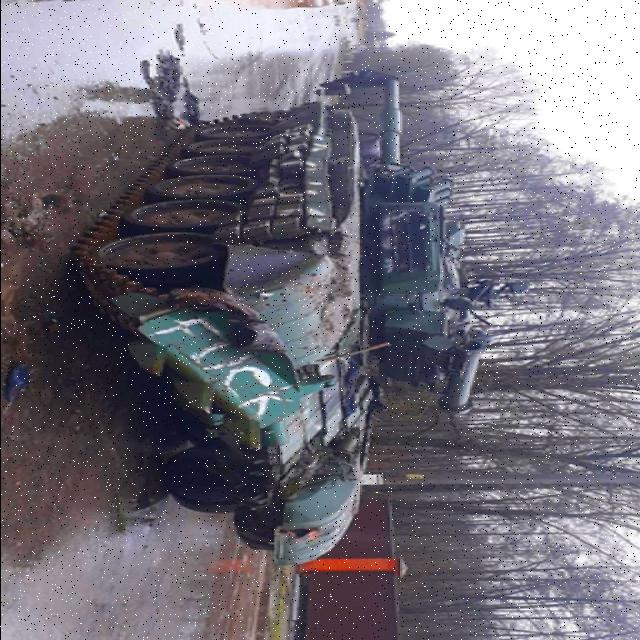TANK: (58, 71, 529, 555)
